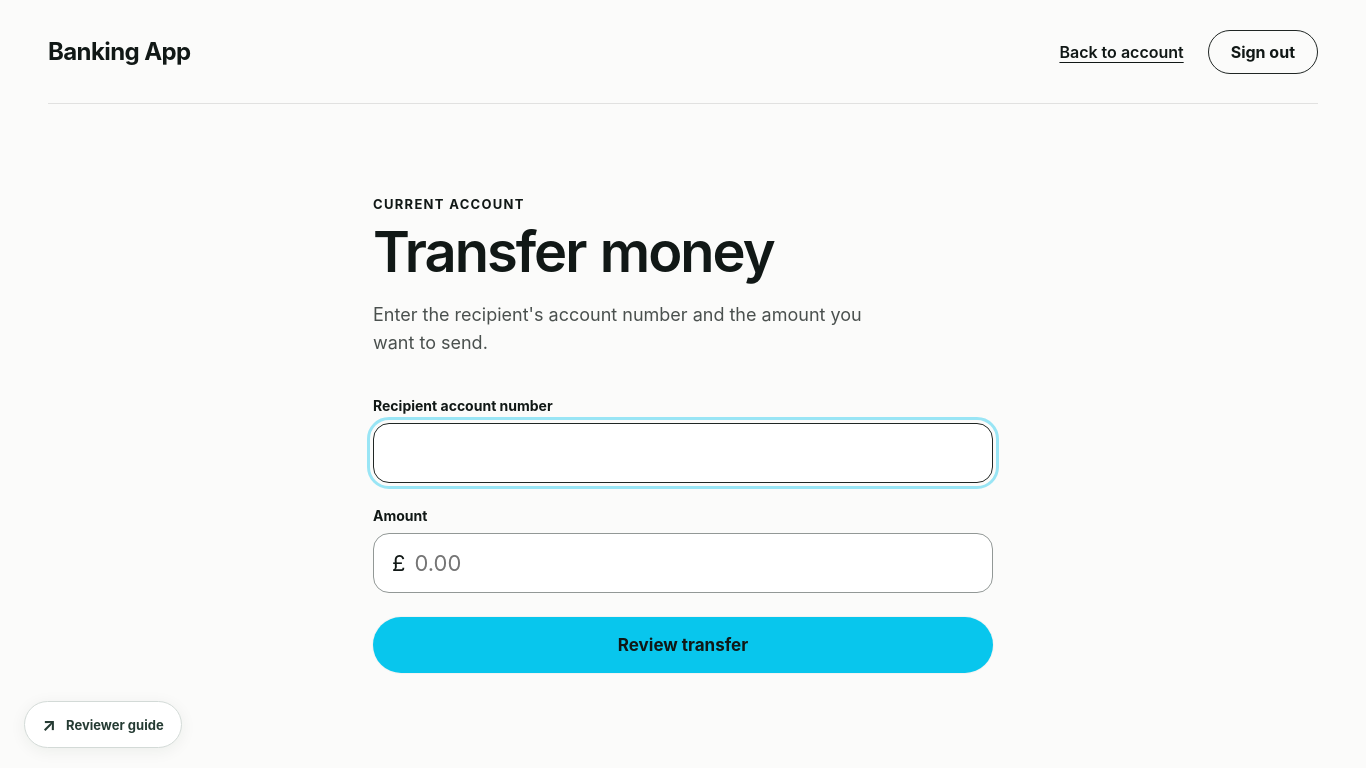
Test: transfer flow › carries the details back to the form when you choose to edit
Type "61504" into the field labelled "Recipient account number" at (683,453), box [373, 423, 993, 483]
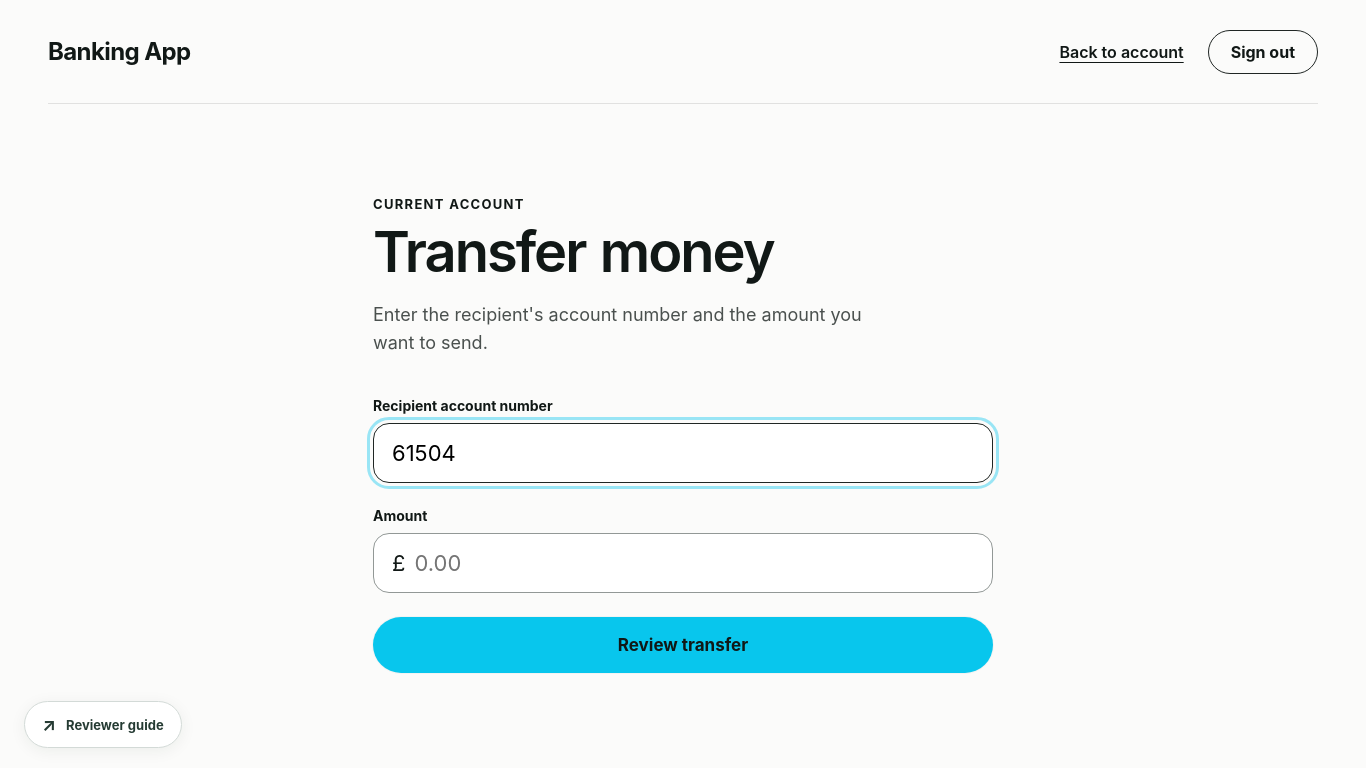
Type "25.50" into the field labelled "Amount" at (693,563), box [412, 549, 974, 577]
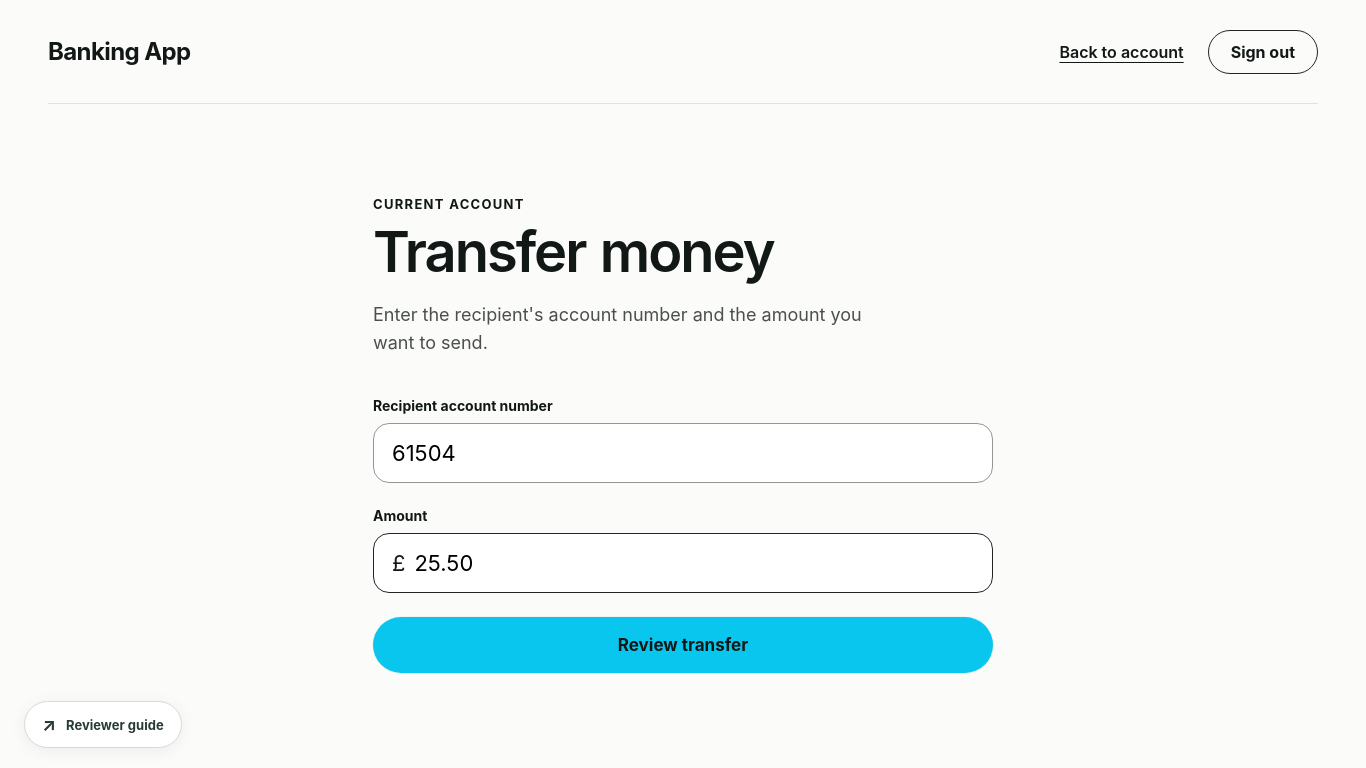
Click the button "Review transfer" at (683,645), box [373, 617, 993, 673]
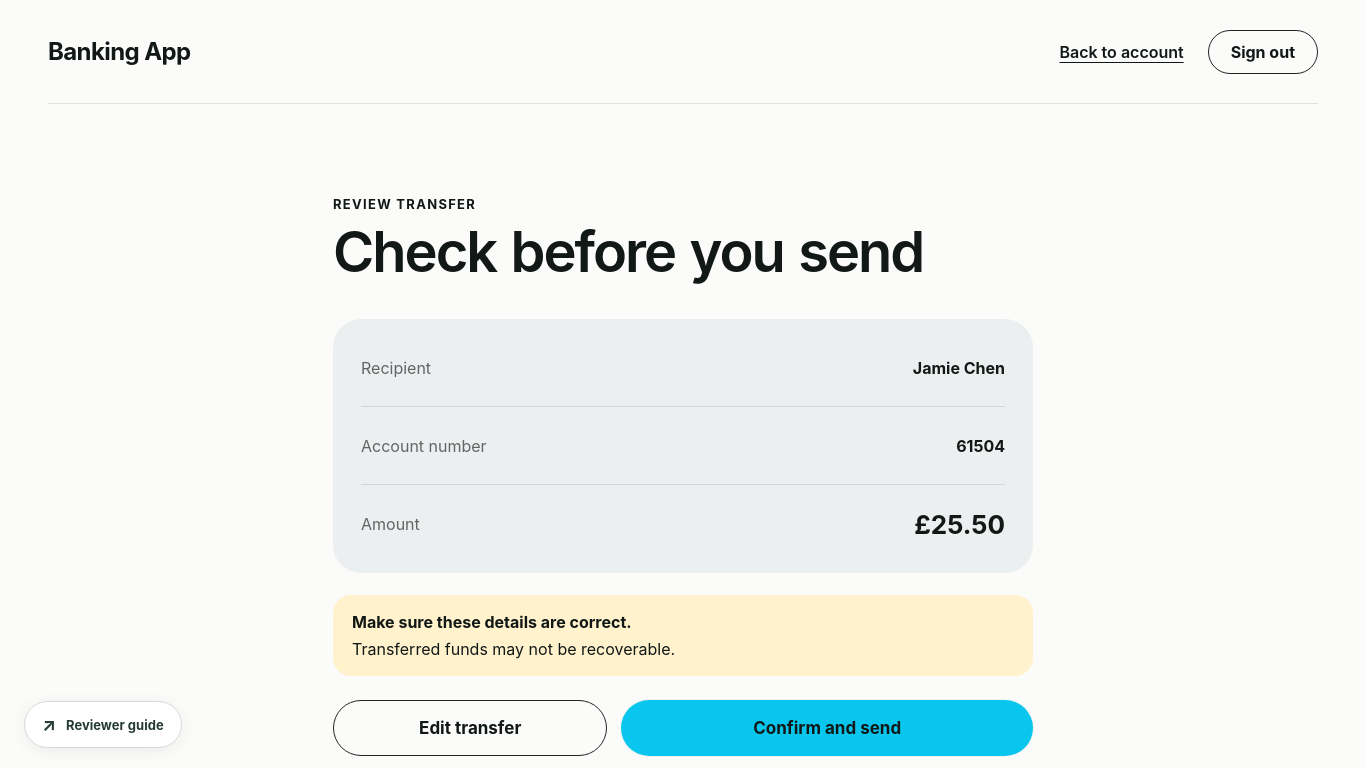
Click the button "Edit transfer" at (470,728), box [333, 700, 607, 756]
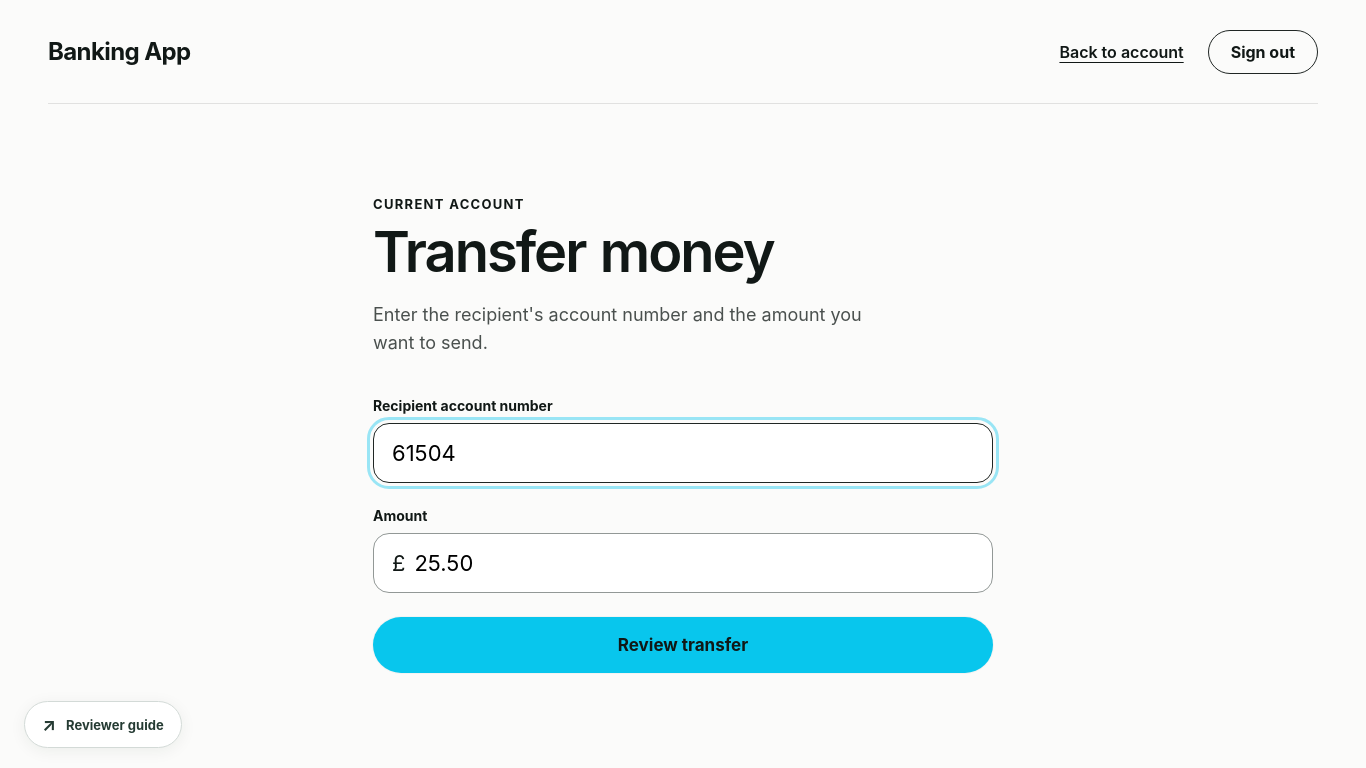
Expected: the heading "Transfer money" is shown, [373, 218, 774, 286]
Expected: the field labelled "Recipient account number" holds "61504", [373, 423, 993, 483]
Expected: the field labelled "Amount" holds "25.50", [412, 549, 974, 577]
